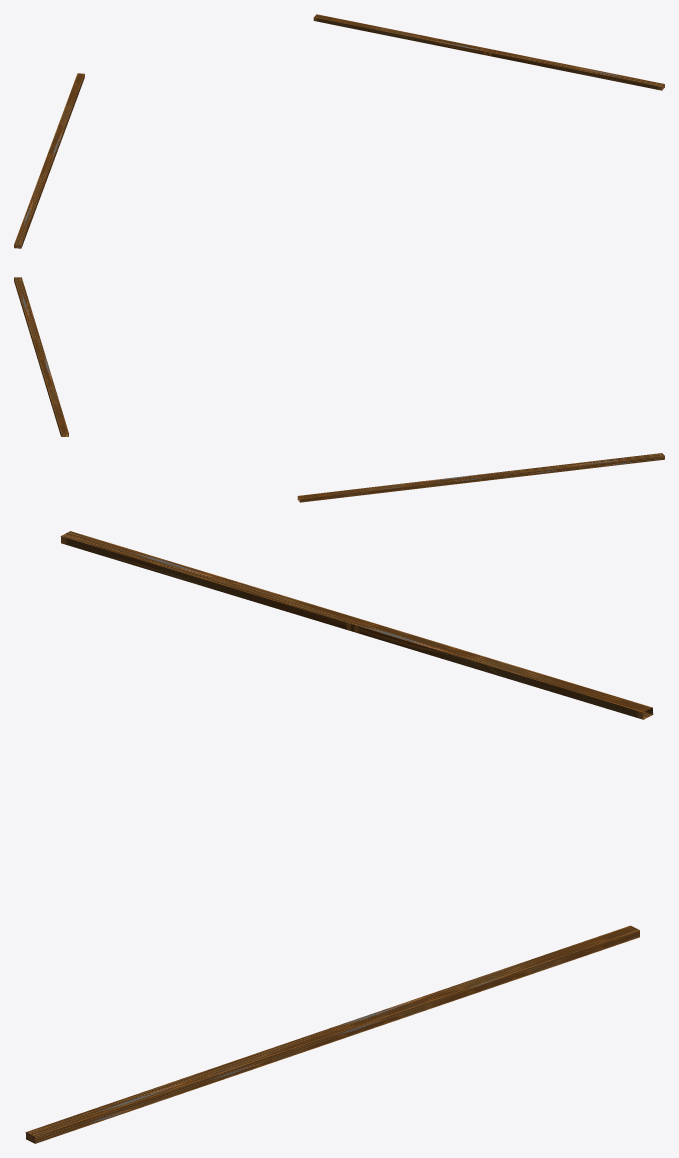
The picture shows the model from 3 angles, top to bottom: view 1: azimuth 30°, elevation 25°; view 2: azimuth 150°, elevation 25°; view 3: azimuth 270°, elevation 25°; orthographic projection. The views are drawn at different scales.
Visible parts, largest first — view 1: Cube.1994; view 2: Cube.1994; view 3: Cube.1994.
Part boxes in pixels (left/top/right/bottom): Cube.1994: left=14, top=14, right=664, bottom=248; Cube.1994: left=14, top=277, right=664, bottom=502; Cube.1994: left=25, top=531, right=653, bottom=1143.
Bounding box in the file's own units: 2251 × 71.32 × 952.
Materials: 1 (1 with a texture image).
